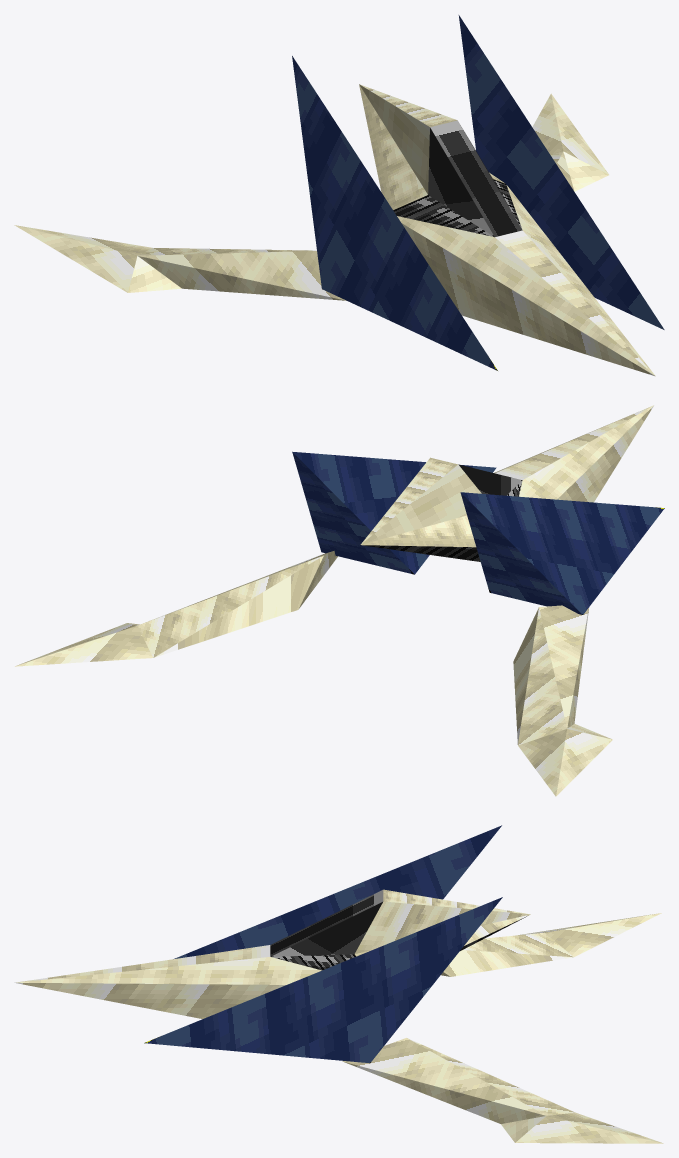
Rendered from menu_arwing.obj.
3 views of the same model, one above another, from view 1: azimuth 30°, elevation 25°; view 2: azimuth 150°, elevation 25°; view 3: azimuth 270°, elevation 25° (orthographic). The views are drawn at different scales.
Parts seen in each view (by area): view 1: menu_arwing; view 2: menu_arwing; view 3: menu_arwing.
Boxes of the visible parts, x1,y1,x2,y2 form: menu_arwing: (14,15,664,376); menu_arwing: (15,405,664,796); menu_arwing: (14,825,663,1143).
Bounding box in the file's own units: 3.46 × 1.26 × 4.14.
3 materials, 3 textured.
